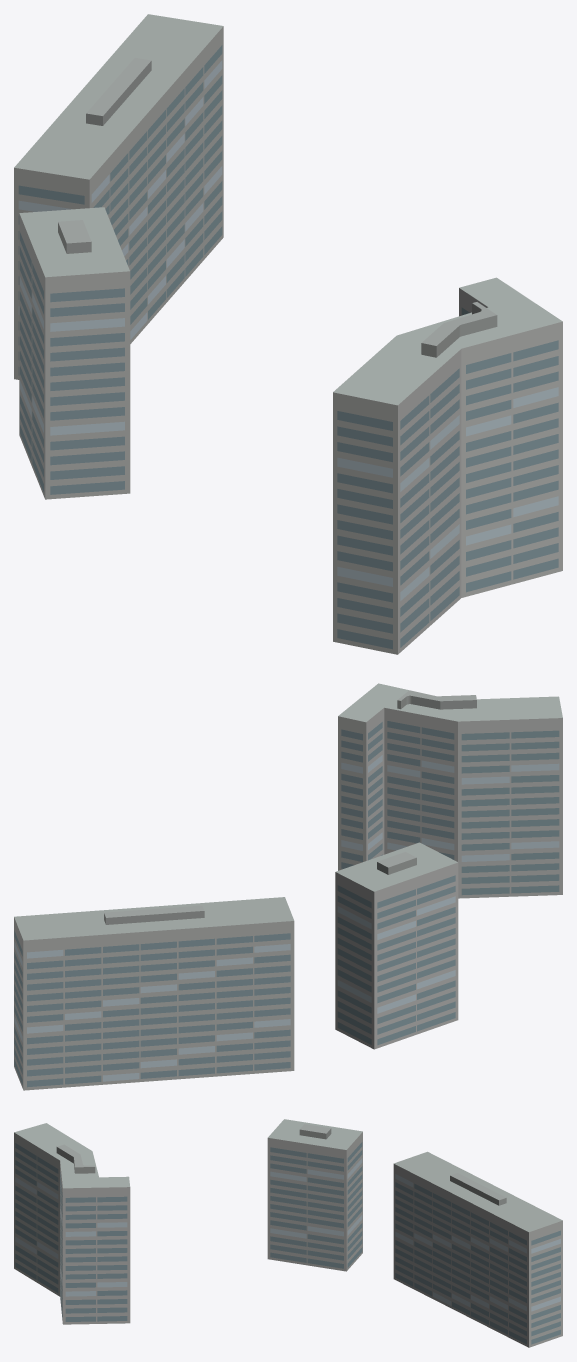
File: apt-a10027708.glb
The picture shows the model from 3 angles, top to bottom: view 1: azimuth 30°, elevation 25°; view 2: azimuth 150°, elevation 25°; view 3: azimuth 270°, elevation 25°; orthographic projection. The views are drawn at different scales.
Parts seen in each view (by area): view 1: apt-a10027708; view 2: apt-a10027708; view 3: apt-a10027708.
Part boxes in pixels (x1=…): apt-a10027708: x1=14, y1=14, x2=562, y2=654; apt-a10027708: x1=14, y1=683, x2=562, y2=1090; apt-a10027708: x1=14, y1=1119, x2=562, y2=1347.
Size of the model in its own units: 74.18 by 46 by 160.
